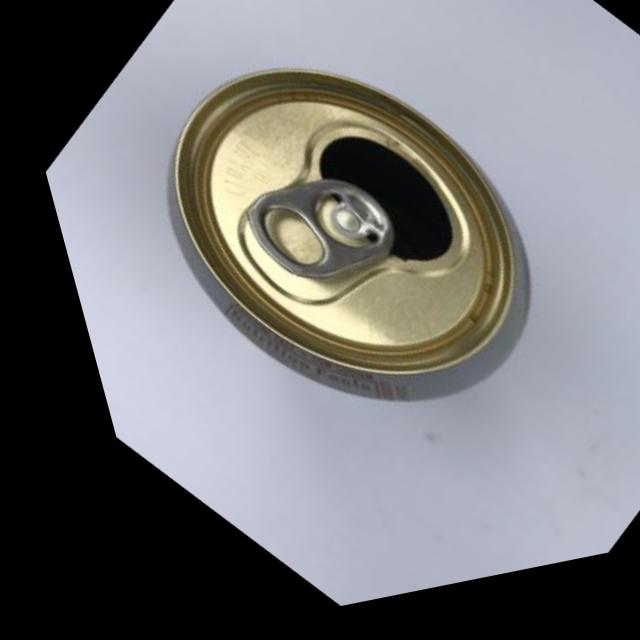metal: (12, 0, 640, 545)
